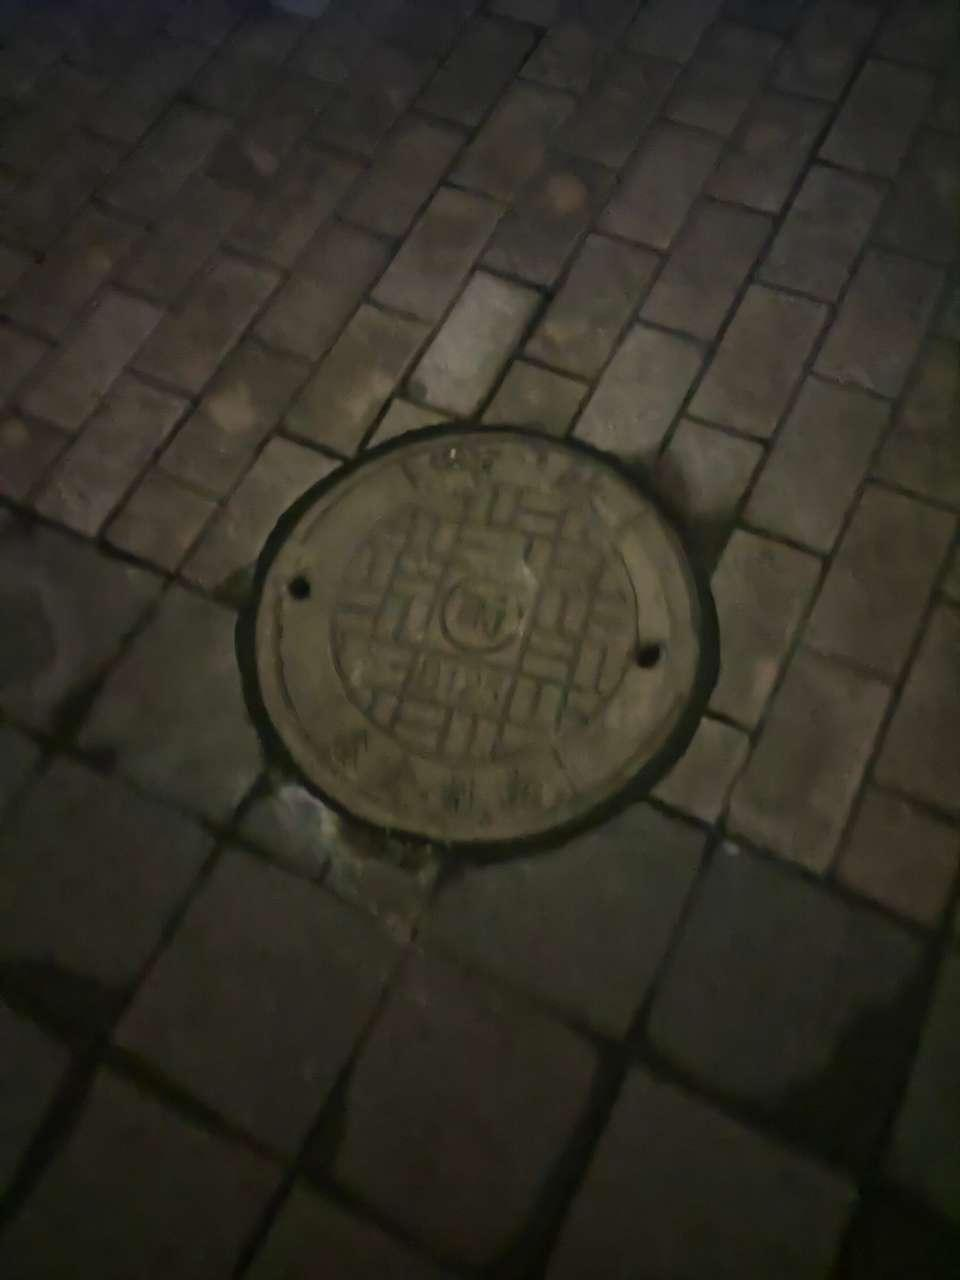wellcover: (226, 398, 749, 872)
